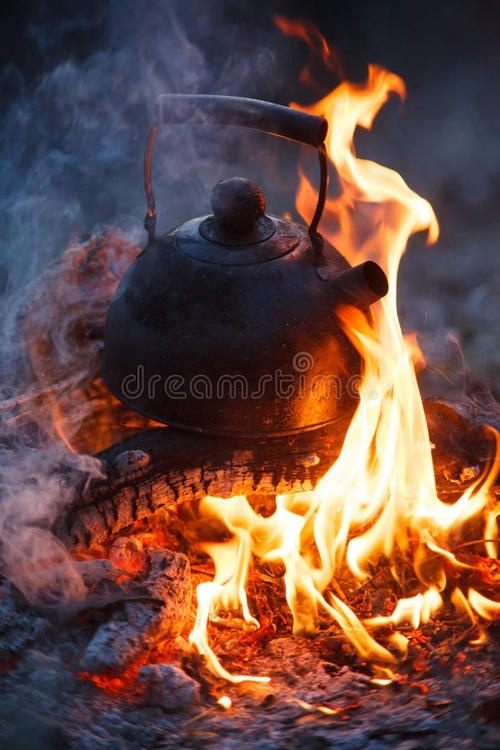fire: (247, 7, 500, 633)
